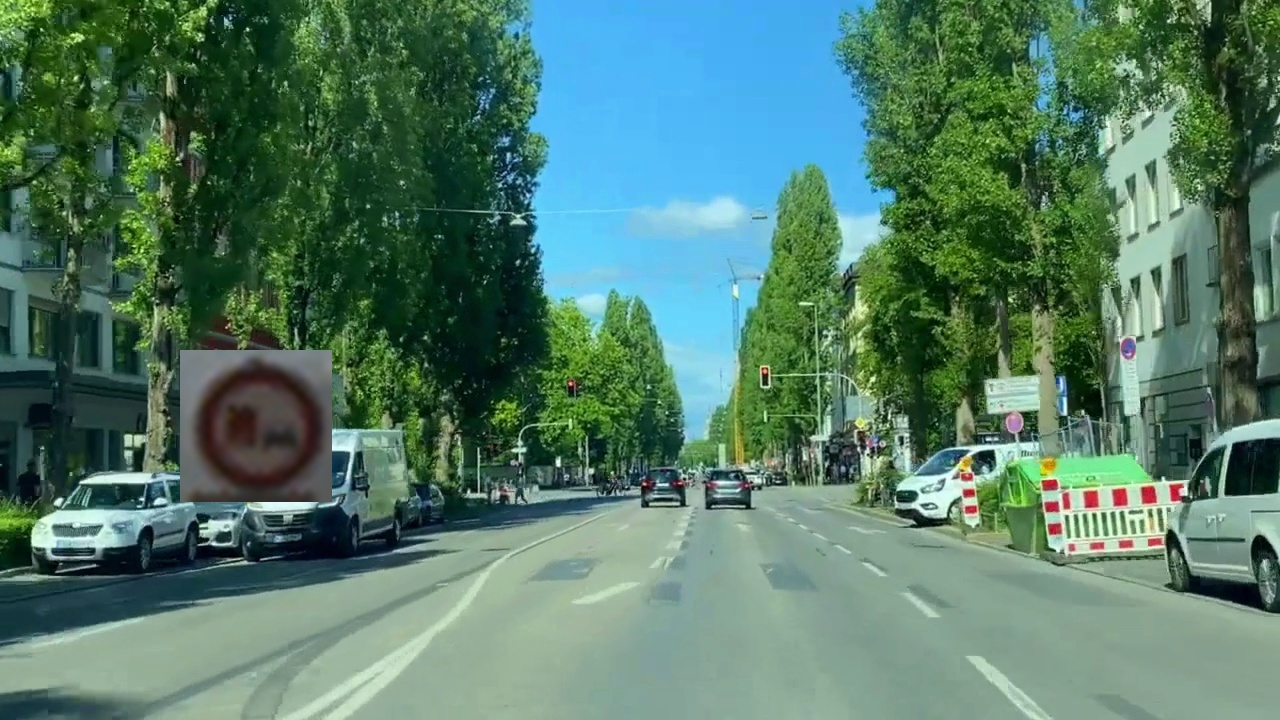No pass >3.5t: (180, 350, 332, 502)
